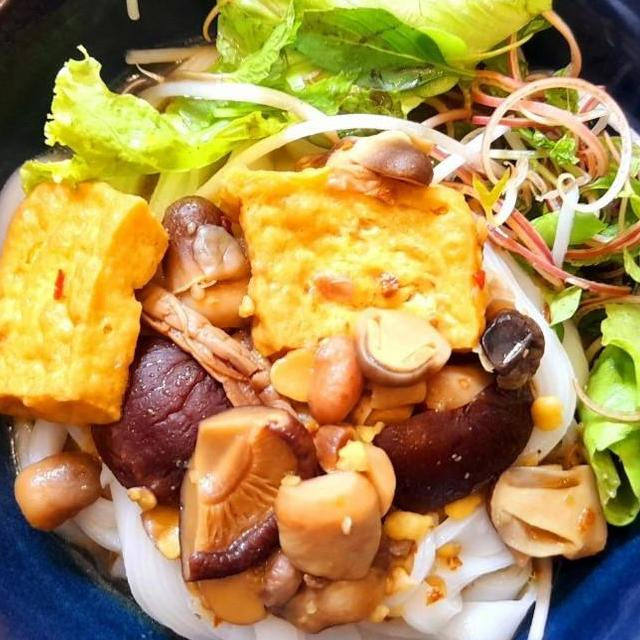dau hu: (211, 158, 494, 356), (0, 165, 175, 431)
mi: (1, 408, 546, 640)
